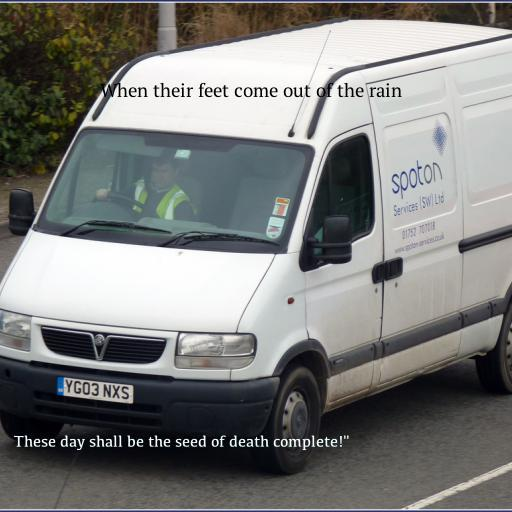Kefa: (14, 435, 350, 451)
PT Serif: (100, 82, 402, 98)
